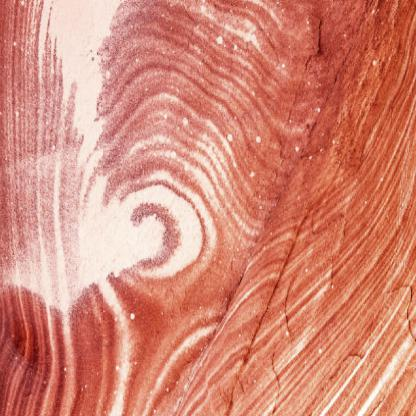Sedimentary_Sandstone: (1, 2, 410, 415)
